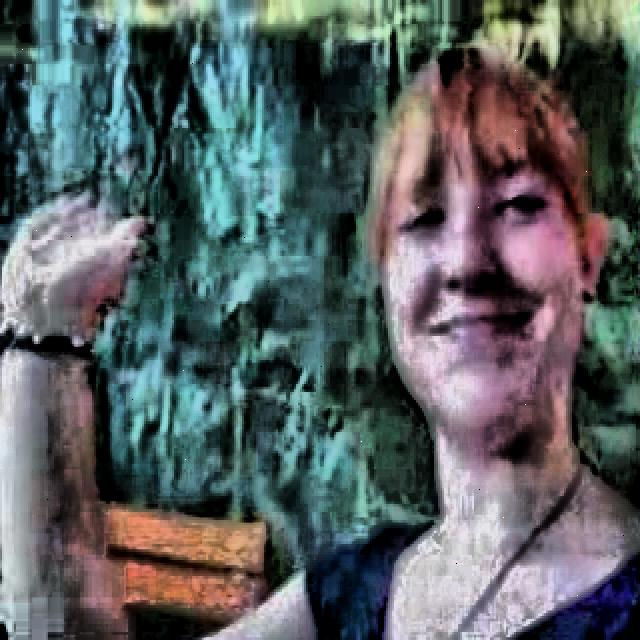T: (7, 44, 638, 636)
